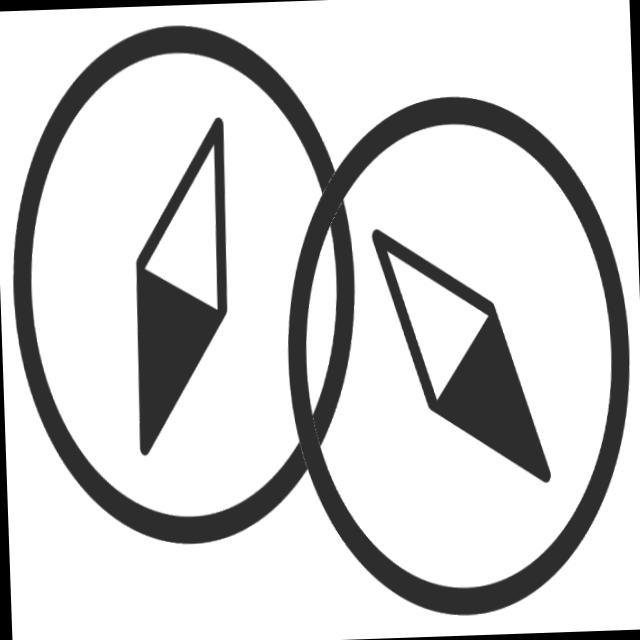compass: (197, 78, 640, 627), (1, 11, 366, 568)
